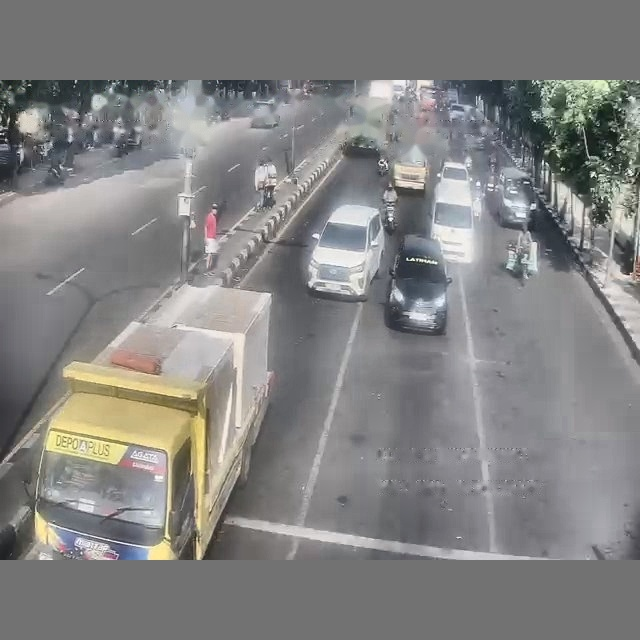Mobil: (307, 204, 383, 300), (385, 235, 451, 334), (430, 181, 474, 263), (494, 167, 537, 229), (343, 133, 380, 157), (437, 161, 470, 183), (250, 106, 279, 128), (254, 98, 278, 112), (448, 103, 466, 121)
Motor: (505, 242, 534, 282), (382, 202, 397, 235), (45, 163, 65, 185), (377, 158, 390, 177)
Truk: (30, 285, 273, 559)
